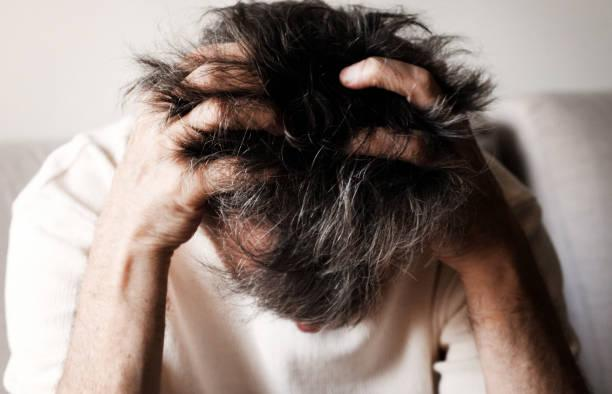dry hair: (313, 157, 469, 269), (234, 166, 272, 238)
